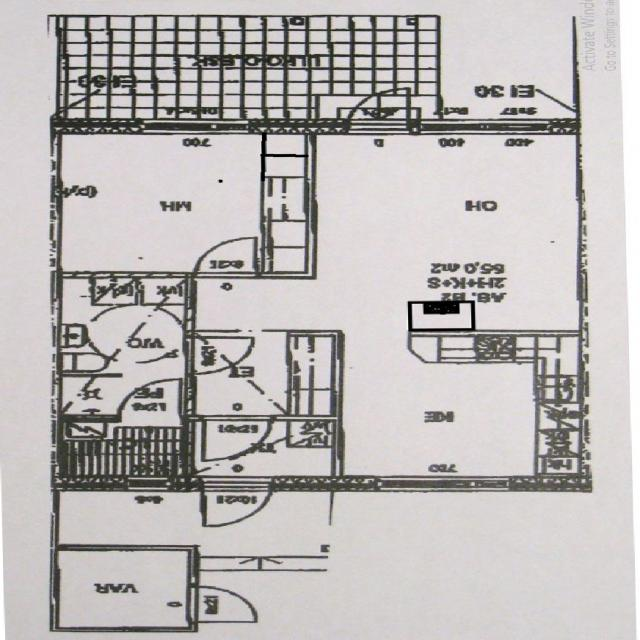door: (202, 476, 270, 530), (348, 83, 409, 133), (203, 415, 270, 459), (195, 236, 256, 278), (185, 337, 256, 373), (120, 380, 180, 420), (189, 587, 257, 622)
